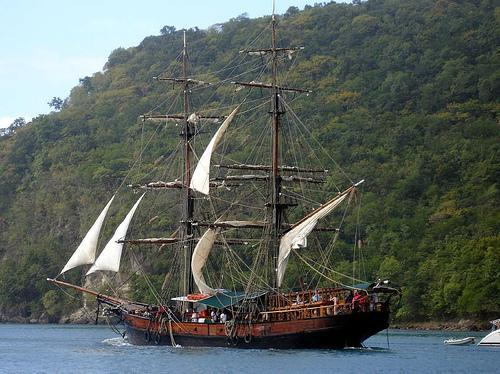Ship: (46, 15, 402, 353)
